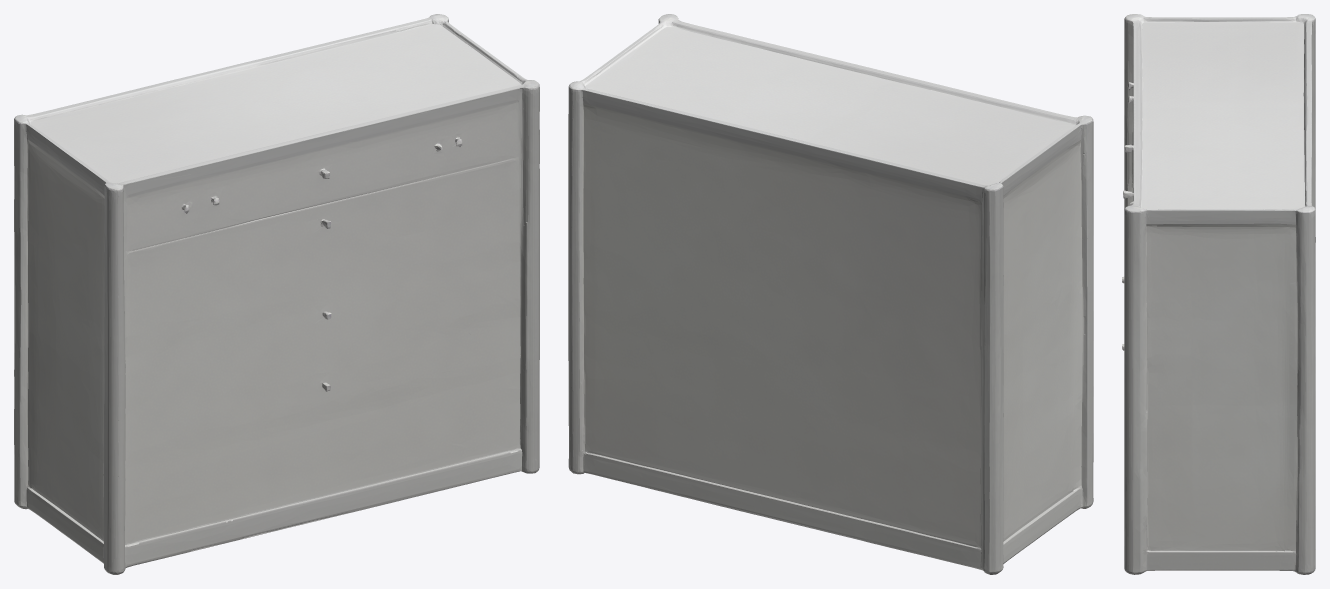
Rendered from dolap.glb.
3 views of the same model, side by side, from view 1: azimuth 30°, elevation 25°; view 2: azimuth 150°, elevation 25°; view 3: azimuth 270°, elevation 25° (orthographic). The views are drawn at different scales.
Size of the model in its own units: 100 by 86.28 by 41.36.
Materials: 1 (1 with a texture image).
